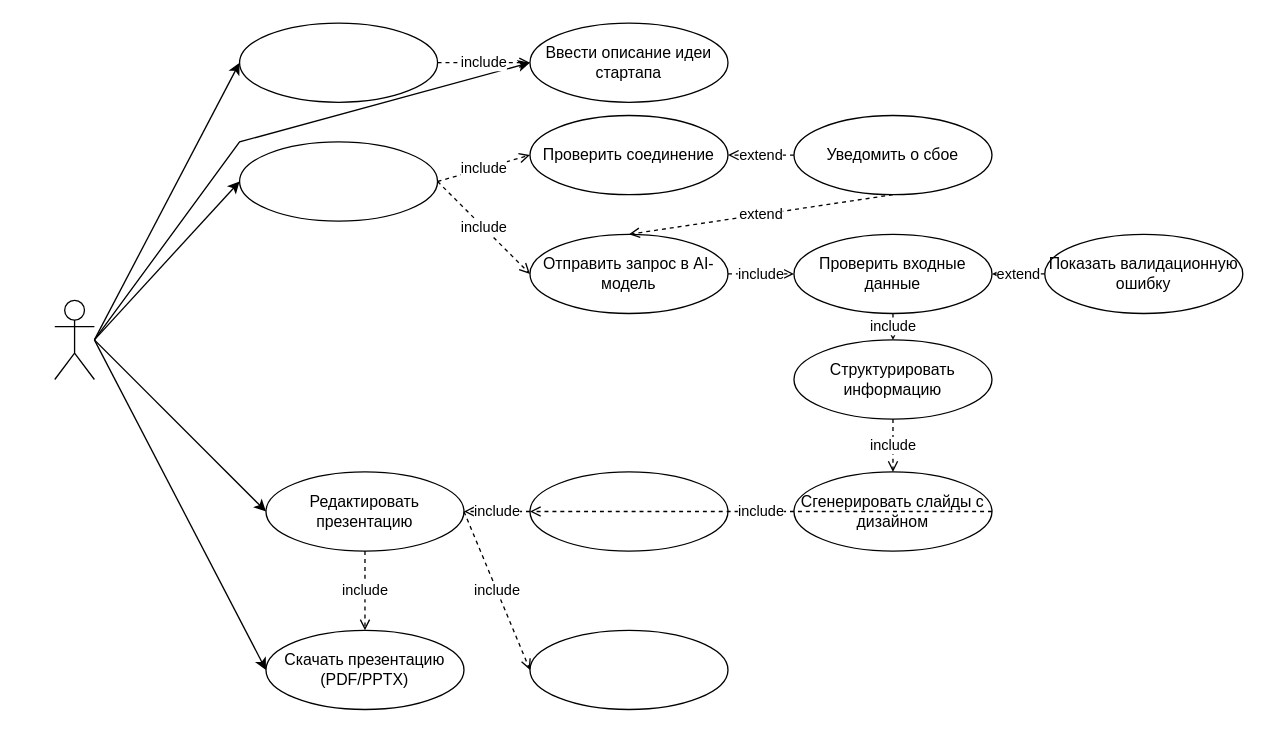
The diagram is 1266 pixels wide and 733 high, and some of its shapes have lost their labels. The shapes that lost their labels are listed below. From the top down, each one's centre as x and y in pixels, then its label:
At point 338,62: "Создать презентацию".
At point 338,181: "Сгенерировать презентацию".
At point 73,339: "Пользователь".
At point 628,511: "Показать итоговый вариант".
At point 628,669: "Предоставить встроенный редактор".
